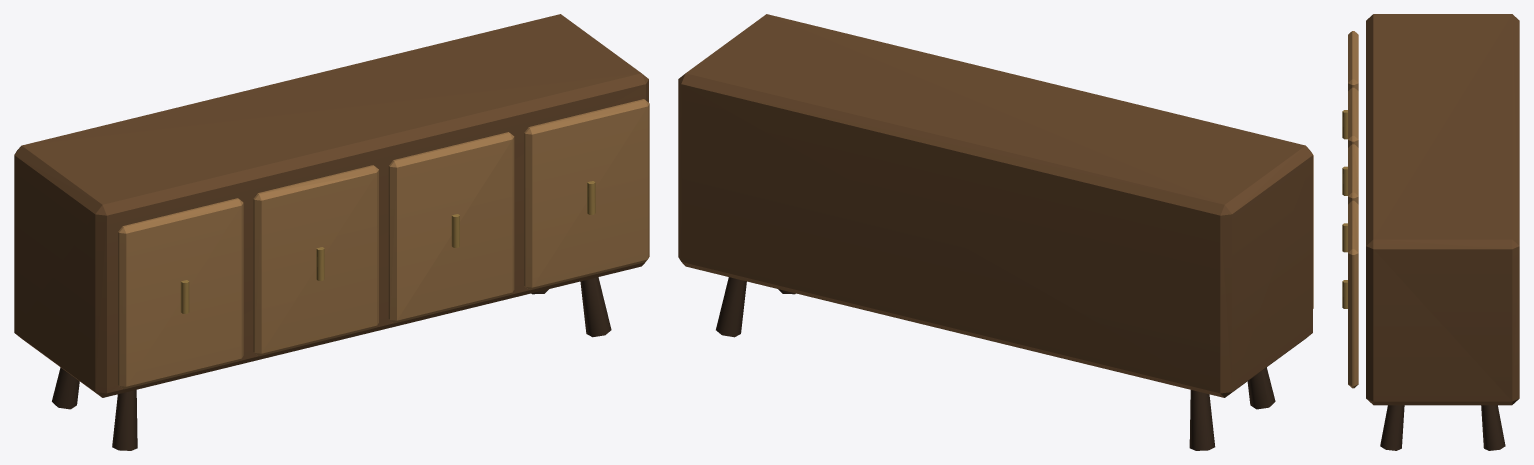
File: sideboard.glb
The picture shows the model from 3 angles, left to right: view 1: azimuth 30°, elevation 25°; view 2: azimuth 150°, elevation 25°; view 3: azimuth 270°, elevation 25°; orthographic projection. The views are drawn at different scales.
Visible parts, largest first — view 1: sideboard; view 2: sideboard; view 3: sideboard.
Part boxes in pixels (bbox=[...]): sideboard: bbox=[14, 14, 649, 450]; sideboard: bbox=[678, 14, 1313, 450]; sideboard: bbox=[1342, 14, 1519, 450].
Bounding box in the file's own units: 1.5 × 0.6734 × 0.485.
